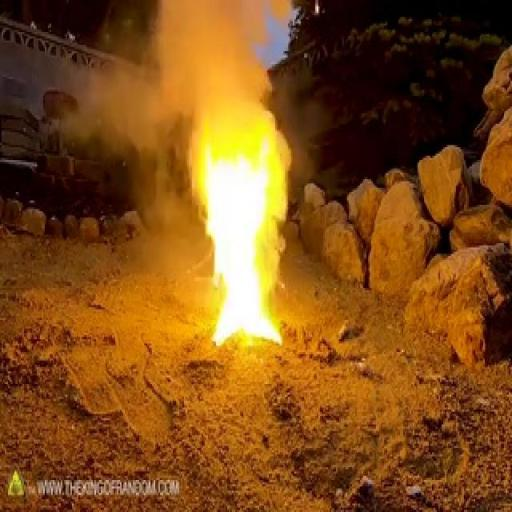smoke: (188, 123, 290, 353)
